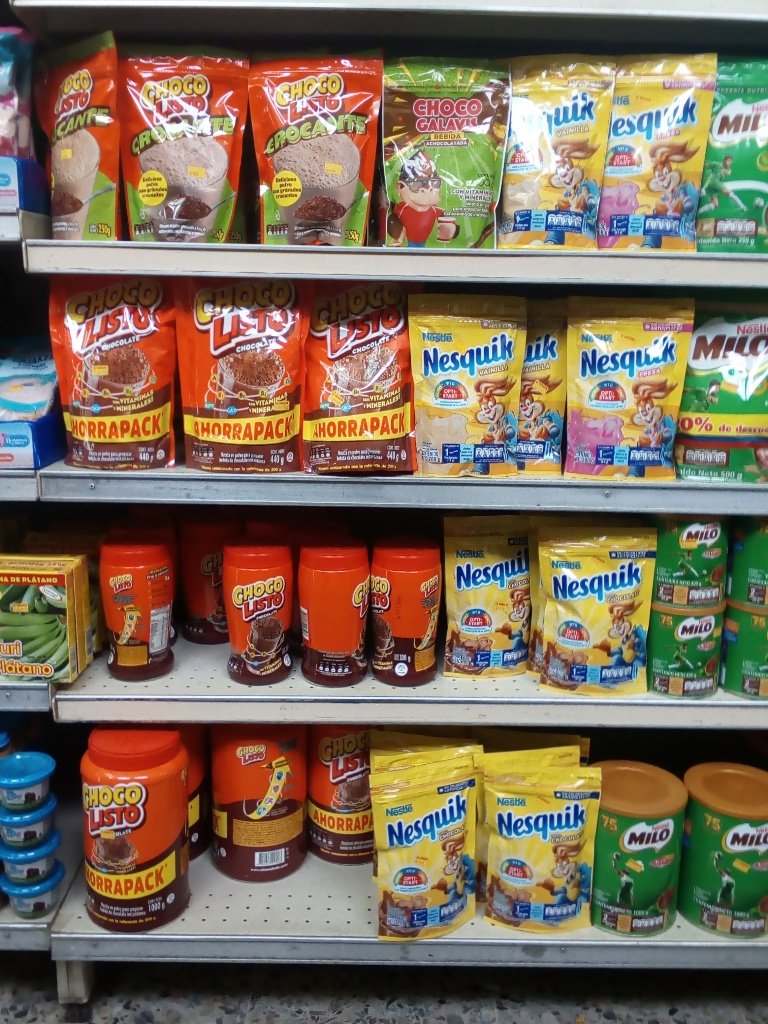COL0170102DYP25000: (37, 36, 126, 245)
COL0170103DYP44000: (48, 272, 178, 471)
COL0170103TRR00100: (79, 728, 194, 932)
COL0170103TRR30000: (98, 535, 179, 681)
COL0170303DYP20000: (443, 513, 535, 679)
COL0170305DYP20000: (602, 55, 714, 255)
COL0170306DYP20000: (502, 56, 615, 251)
